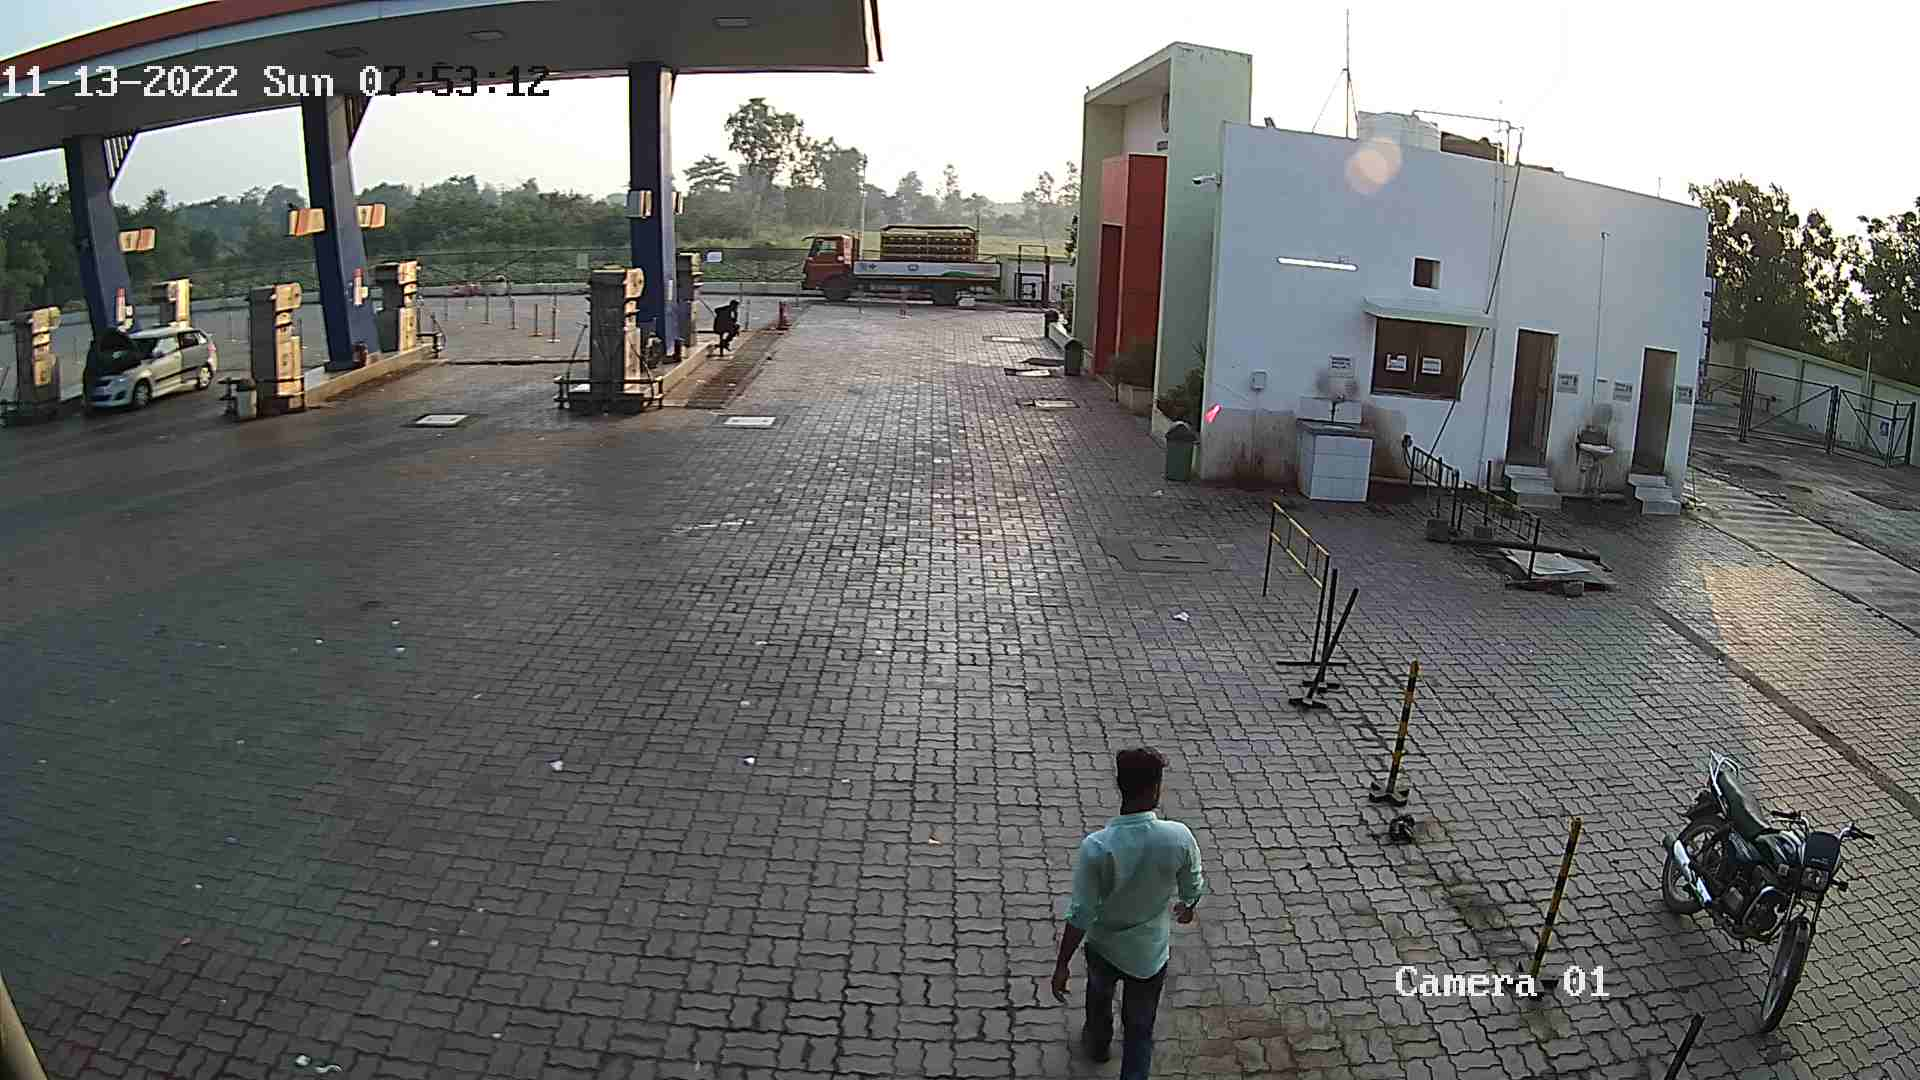Bike: (1625, 732, 1879, 1034)
Car: (74, 311, 225, 419)
HMV: (793, 215, 1017, 313)
